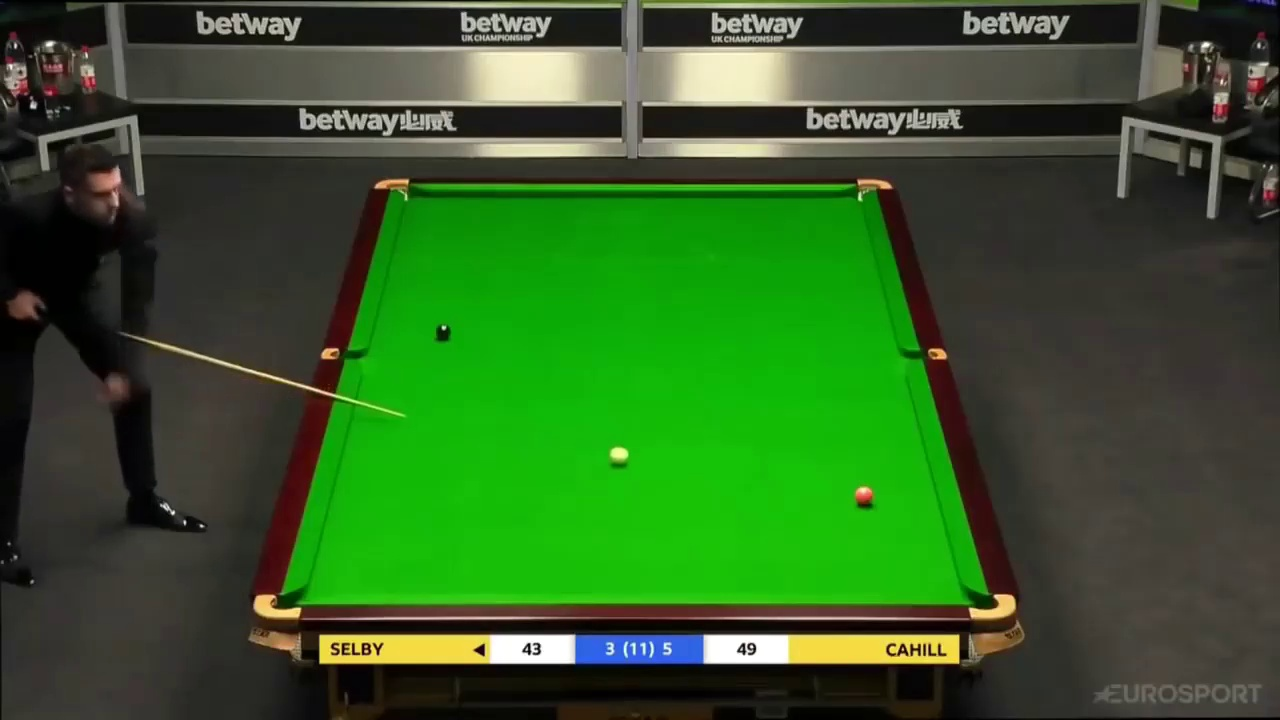ball: (854, 488, 875, 508), (432, 324, 452, 341)
